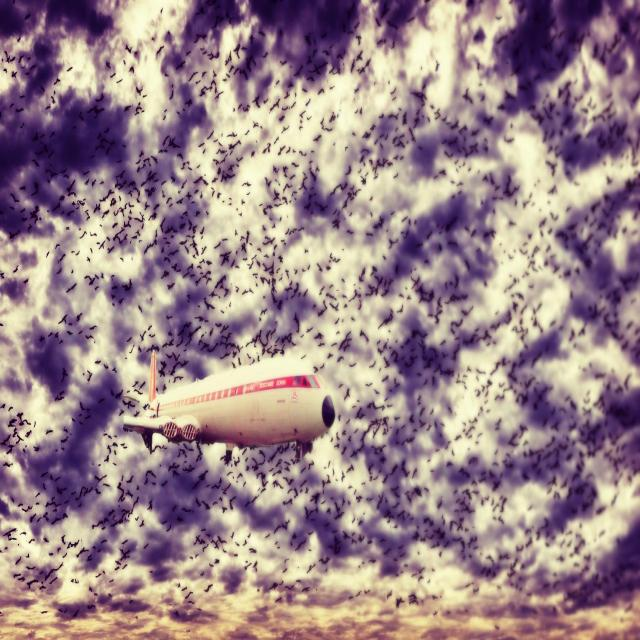airplane: (120, 349, 336, 455)
